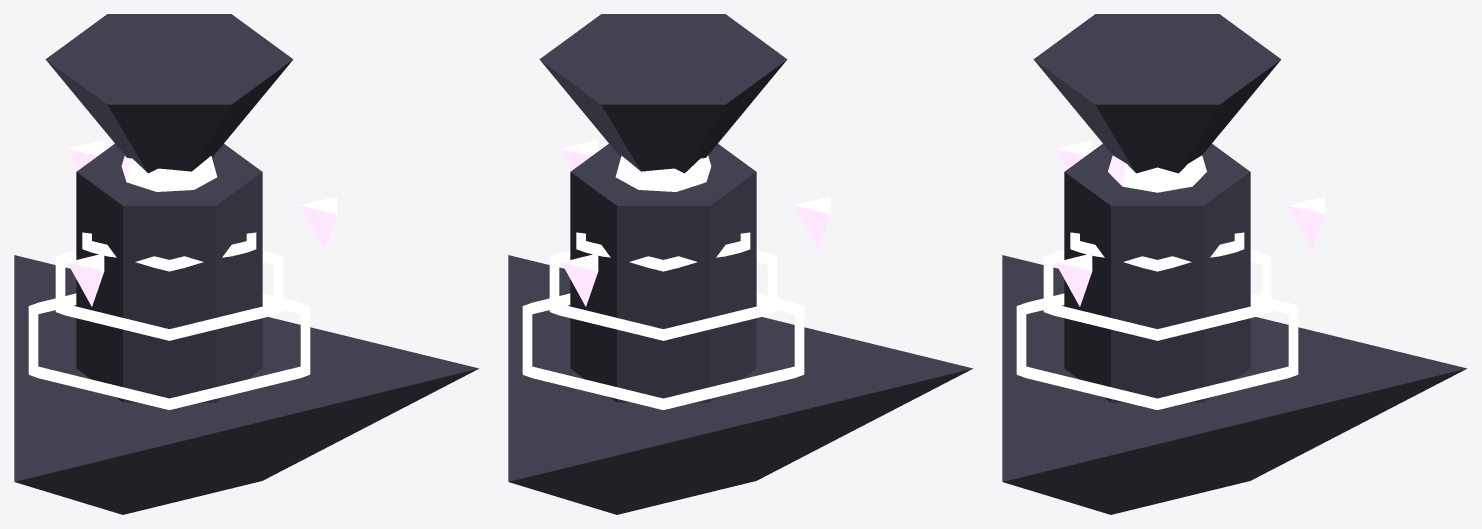
The model's file is tower_debuff.glb.
3 renders of one model, left to right at view 1: azimuth 30°, elevation 25°; view 2: azimuth 150°, elevation 25°; view 3: azimuth 270°, elevation 25°, orthographic.
Parts seen in each view (by area): view 1: tower_debuff; view 2: tower_debuff; view 3: tower_debuff.
Part boxes in pixels (x1,y1,x2,y2): tower_debuff: (14,14,478,514); tower_debuff: (508,14,972,514); tower_debuff: (1002,14,1466,514).
Bounding box in the file's own units: 0.866 × 0.75 × 0.75.
